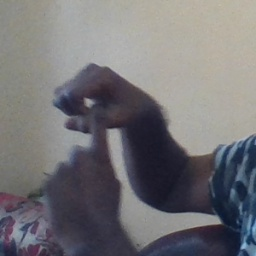Q: (42, 59, 146, 219)
